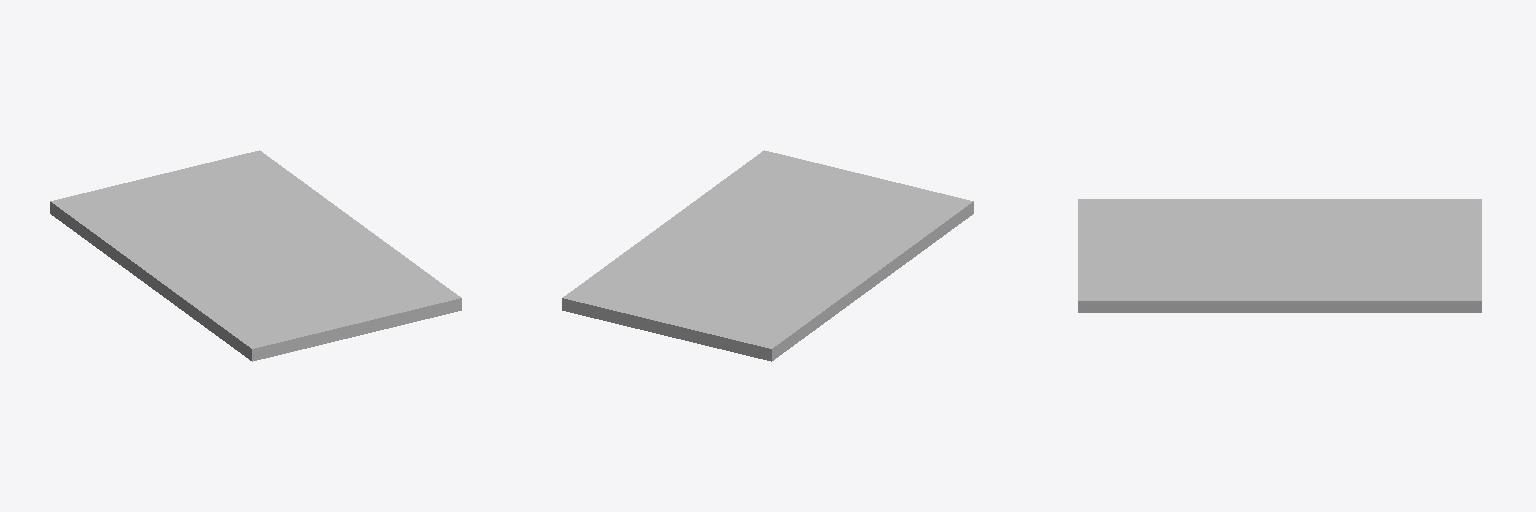
File: ceiling.obj
The picture shows the model from 3 angles: view 1: azimuth 30°, elevation 25°; view 2: azimuth 150°, elevation 25°; view 3: azimuth 270°, elevation 25°; orthographic projection.
Visible parts, largest first — view 1: Plane; view 2: Plane; view 3: Plane.
Boxes of the visible parts, x1=… form: Plane: x1=50, y1=150, x2=461, y2=361; Plane: x1=562, y1=150, x2=973, y2=361; Plane: x1=1078, y1=199, x2=1481, y2=312.
Size of the model in its own units: 523 by 30 by 874.